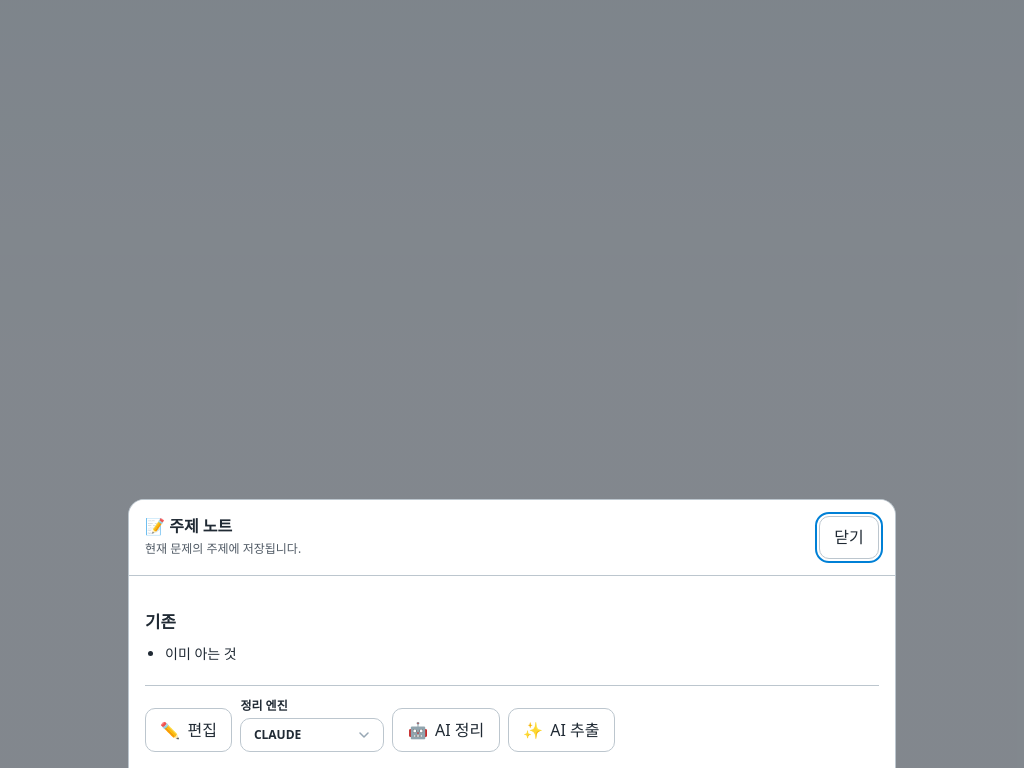
Scenario: NotePanel › 추출할 새 내용이 없으면 안내만 보여준다
The image size is (1024, 768).
Click the button "✨ AI 추출". click: (561,730)
box: [508, 708, 615, 752]
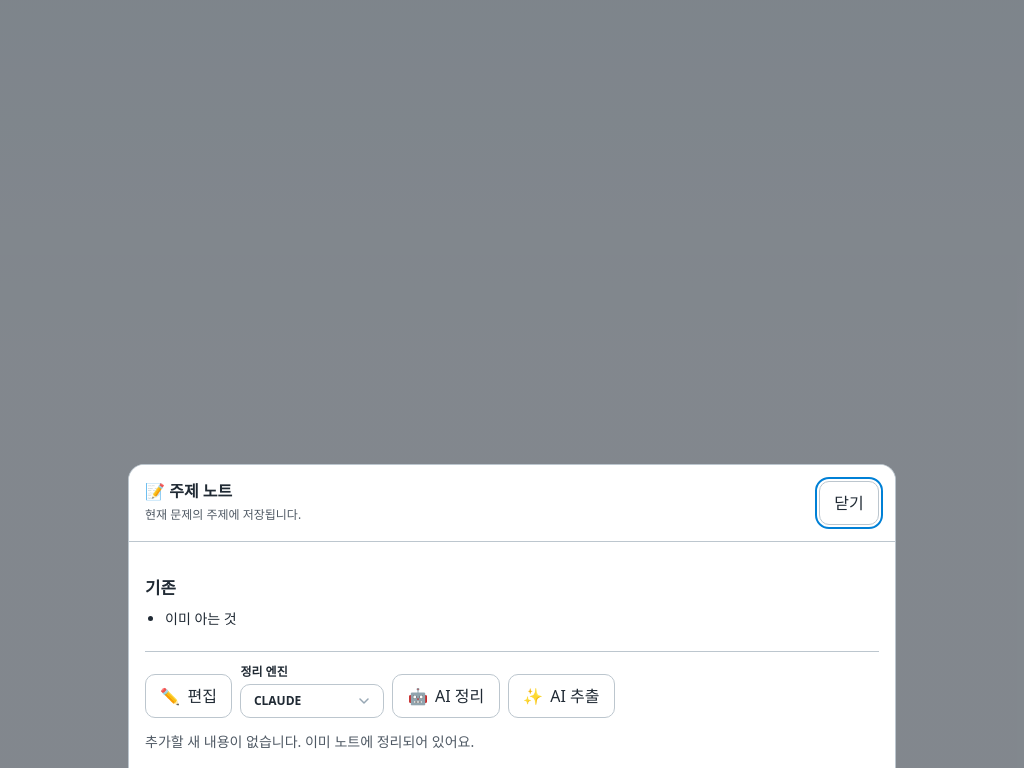
Check: the message shows "추가할 새 내용이 없습니다", box [145, 732, 474, 751]
